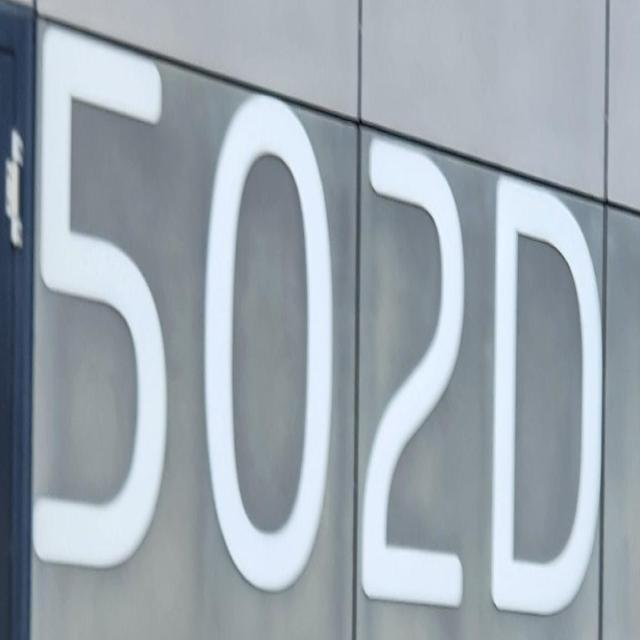character: (30, 17, 174, 579), (200, 89, 338, 597), (487, 172, 606, 628), (360, 129, 468, 616)
